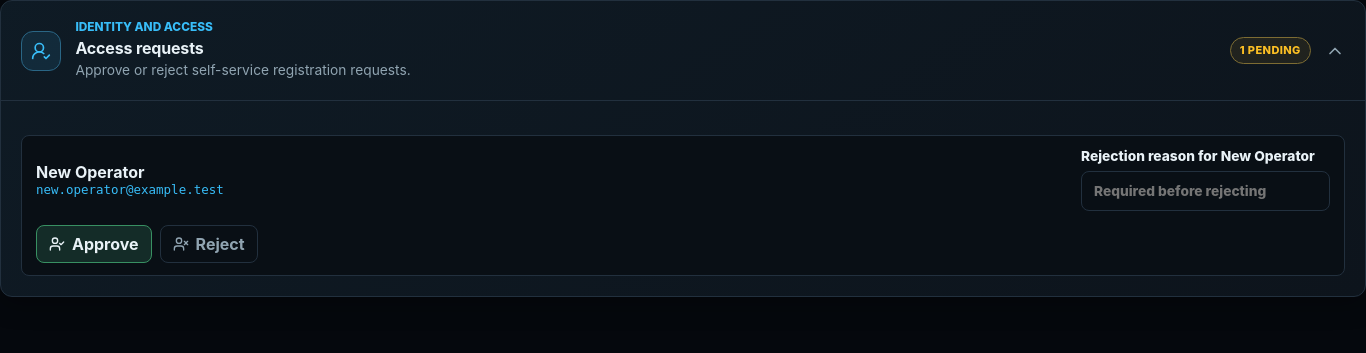
Scenario: rejects a pending access request with a reason
Expected: the text "New Operator" is shown, [36, 162, 144, 182]
Expected: the button "Reject" is disabled, [160, 225, 258, 263]
In the field labelled "Rejection reason for New Operator": {"x": 1206, "y": 191} [1081, 171, 1330, 211], type "Duties not confirmed."
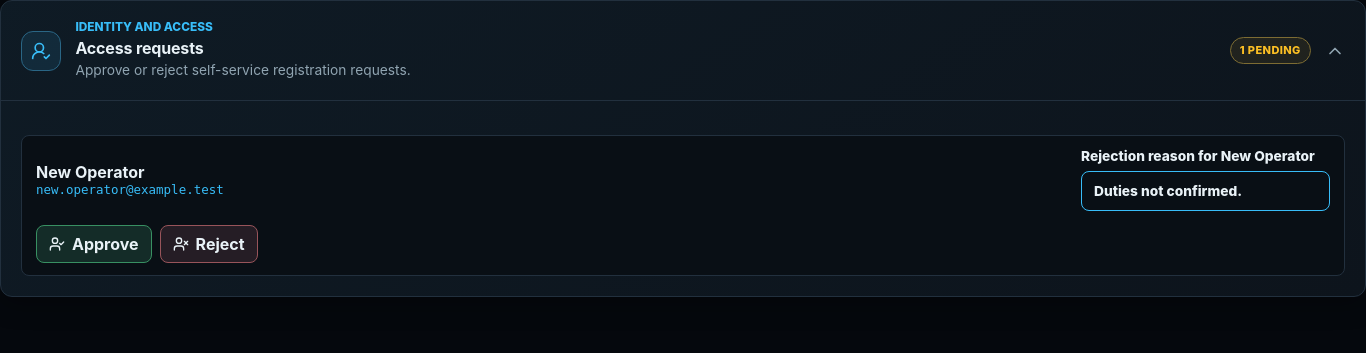
Click the button "Reject": {"x": 209, "y": 244} [160, 225, 258, 263]
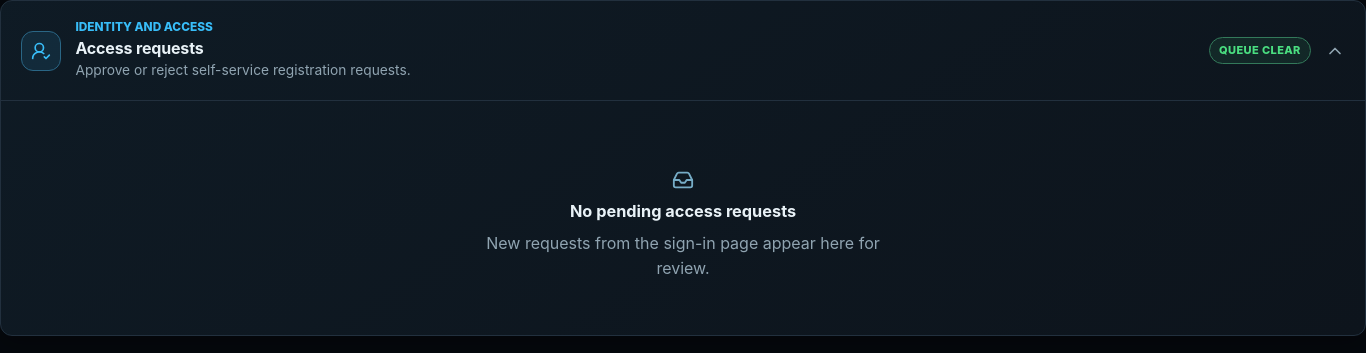
Now the heading "No pending access requests" is shown, box [570, 201, 796, 221]
